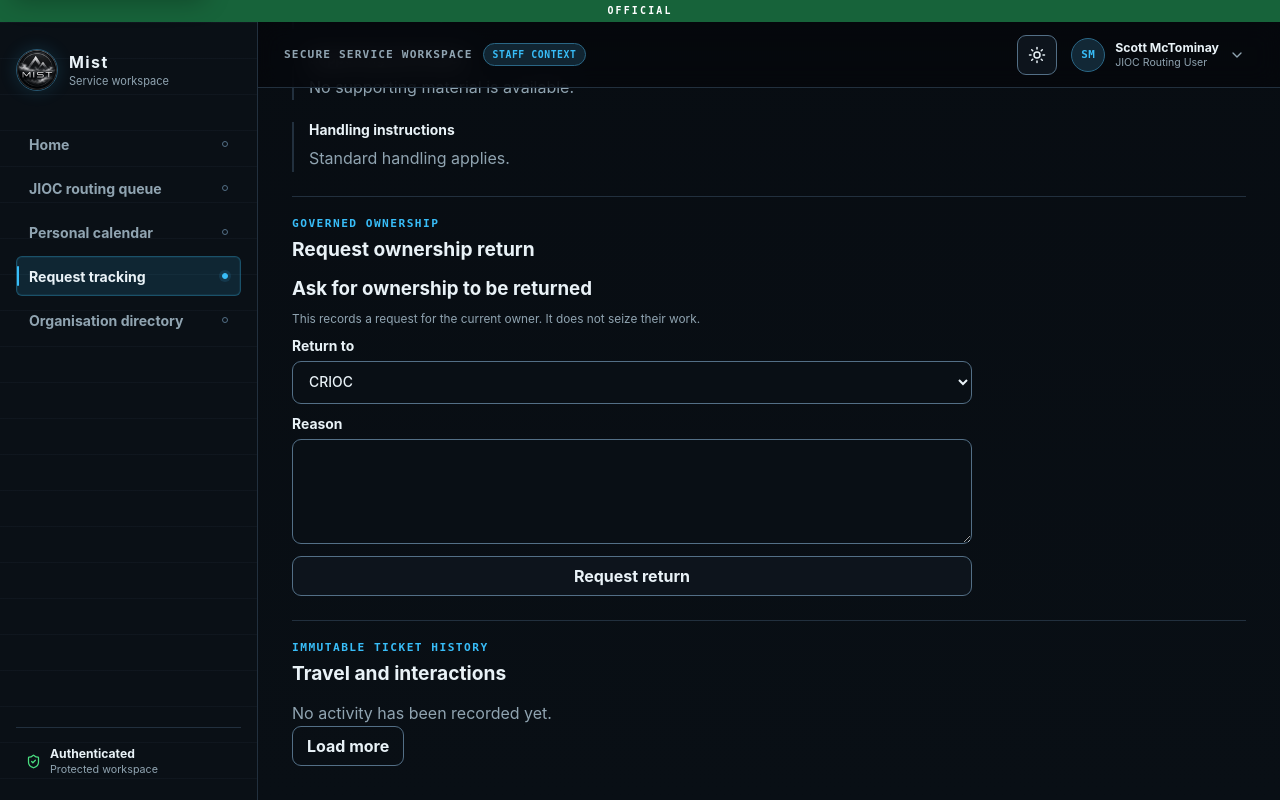
Test case: route-scoped request tracking › pages through older immutable ticket history
(page scrolled)
Step 1. Click the button "Load more" → (348, 746), box [292,726,404,766]
(page scrolled)
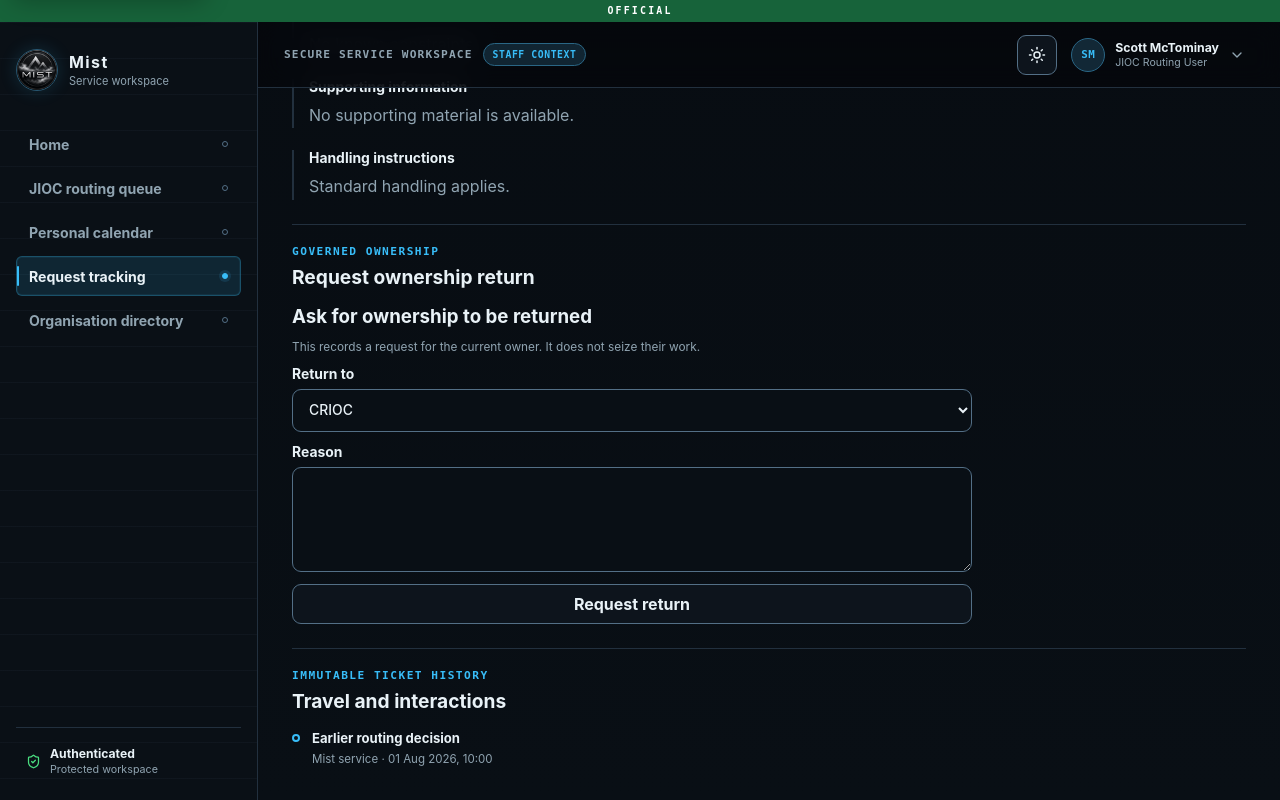
Expected: the text "Earlier routing decision" is shown, [312,730,460,746]
